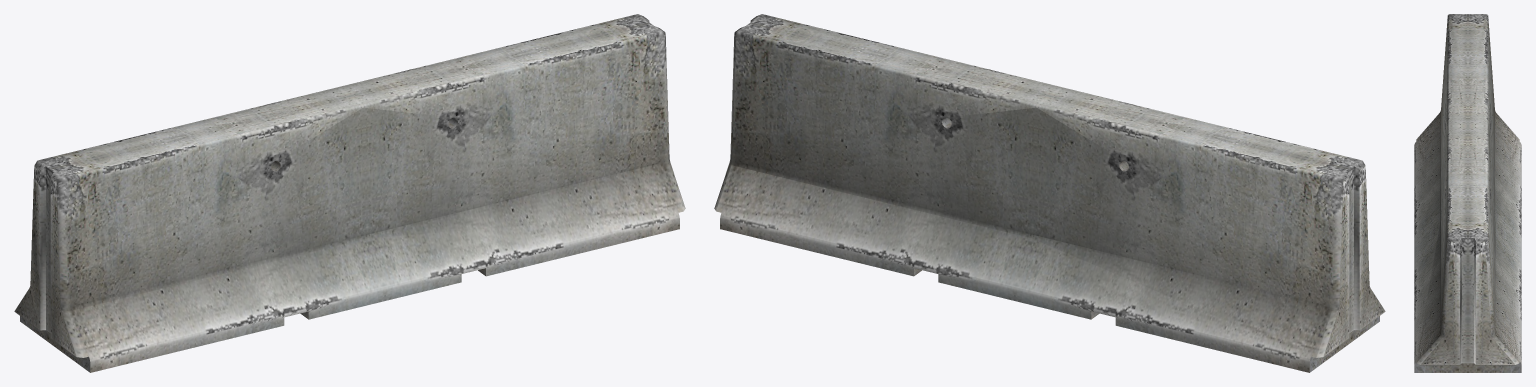
File: jersey_barrier.dae
3 views of the same model, side by side, from view 1: azimuth 30°, elevation 25°; view 2: azimuth 150°, elevation 25°; view 3: azimuth 270°, elevation 25° (orthographic). The views are drawn at different scales.
Visible parts, largest first — view 1: Jersey_Barrier; view 2: Jersey_Barrier; view 3: Jersey_Barrier.
Part boxes in pixels (<box>): Jersey_Barrier: <box>14,14,685,372</box>; Jersey_Barrier: <box>714,14,1385,372</box>; Jersey_Barrier: <box>1414,14,1521,372</box>.
Bounding box in the file's own units: 160 × 32 × 45.
1 material, 1 textured.
